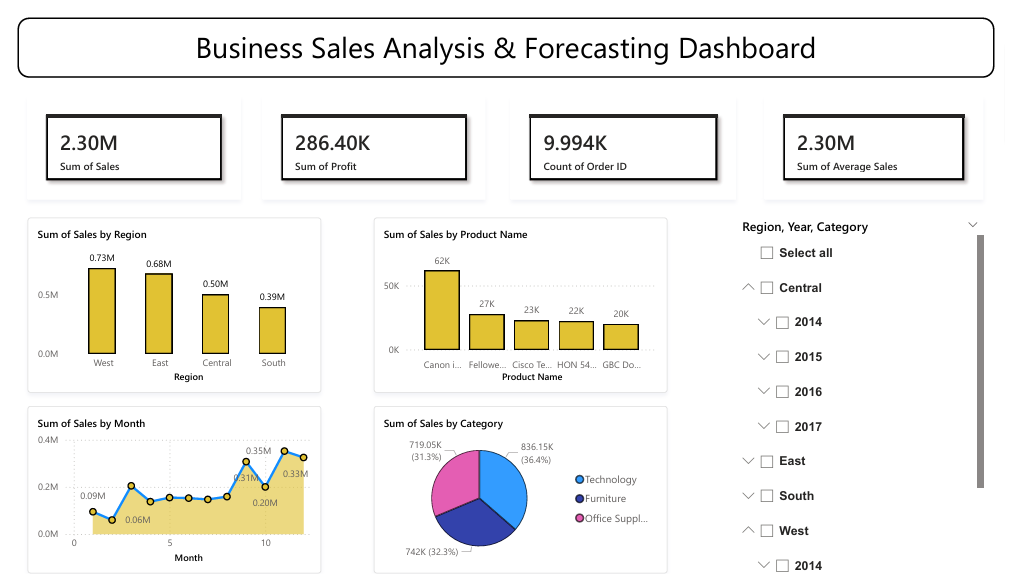

What the dashboard file says about the page in this screenshot:
{"tool":"powerbi","page":{"name":"Page 1","canvas":[1280,720],"ordinal":0},"visuals":[{"type":"cardVisual","fields":{"Data":["Sum(clean_data.Sales)"]},"box":[13.2,102.4,276.6,133.2],"z":0},{"type":"cardVisual","fields":{"Data":["Sum(clean_data.Profit)"]},"box":[317.6,102.4,289.8,133.2],"z":1000},{"type":"lineChart","fields":{"Category":["clean_data.Month"],"Y":["Sum(clean_data.Sales)"]},"box":[13.2,503.4,380.5,216.6],"z":2000},{"type":"columnChart","fields":{"Category":["clean_data.Region"],"Y":["Sum(clean_data.Sales)"]},"box":[13.2,259,380.5,226.8],"z":3000},{"type":"pieChart","fields":{"Category":["clean_data.Category"],"Y":["Sum(clean_data.Sales)"]},"box":[462.4,503.4,380.5,216.6],"z":4000},{"type":"columnChart","fields":{"Category":["clean_data.Product Name"],"Y":["Sum(clean_data.Sales)"]},"box":[462.4,259,380.5,226.8],"z":6000},{"type":"textbox","box":[0,0,1267.3,77.6],"z":7000},{"type":"cardVisual","fields":{"Data":["CountNonNull(clean_data.Order ID)"]},"box":[639.5,102.4,292.7,133.2],"z":8000},{"type":"cardVisual","fields":{"Data":["Sum(clean_data.Average Sales)"]},"box":[968.8,102.4,283.9,133.2],"z":9000},{"type":"slicer","fields":{"Values":["clean_data.Region","clean_data.Year","clean_data.Category"]},"box":[932.2,259,320.5,461],"z":9001}]}

Visuals, with their boxes in screenshot pixels (x1, y1, x2, y2), scaled from the page's 1280x720 canvas onto the 1017x585 screenshot:
cardVisual - Sum(clean_data.Sales): (x1=10, y1=83, x2=230, y2=191)
cardVisual - Sum(clean_data.Profit): (x1=252, y1=83, x2=483, y2=191)
lineChart - clean_data.Month x Sum(clean_data.Sales): (x1=10, y1=409, x2=313, y2=584)
columnChart - clean_data.Region x Sum(clean_data.Sales): (x1=10, y1=210, x2=313, y2=395)
pieChart - clean_data.Category x Sum(clean_data.Sales): (x1=367, y1=409, x2=670, y2=584)
columnChart - clean_data.Product Name x Sum(clean_data.Sales): (x1=367, y1=210, x2=670, y2=395)
textbox: (x1=0, y1=0, x2=1007, y2=63)
cardVisual - CountNonNull(clean_data.Order ID): (x1=508, y1=83, x2=741, y2=191)
cardVisual - Sum(clean_data.Average Sales): (x1=770, y1=83, x2=995, y2=191)
slicer - clean_data.Region x clean_data.Year: (x1=741, y1=210, x2=995, y2=584)
